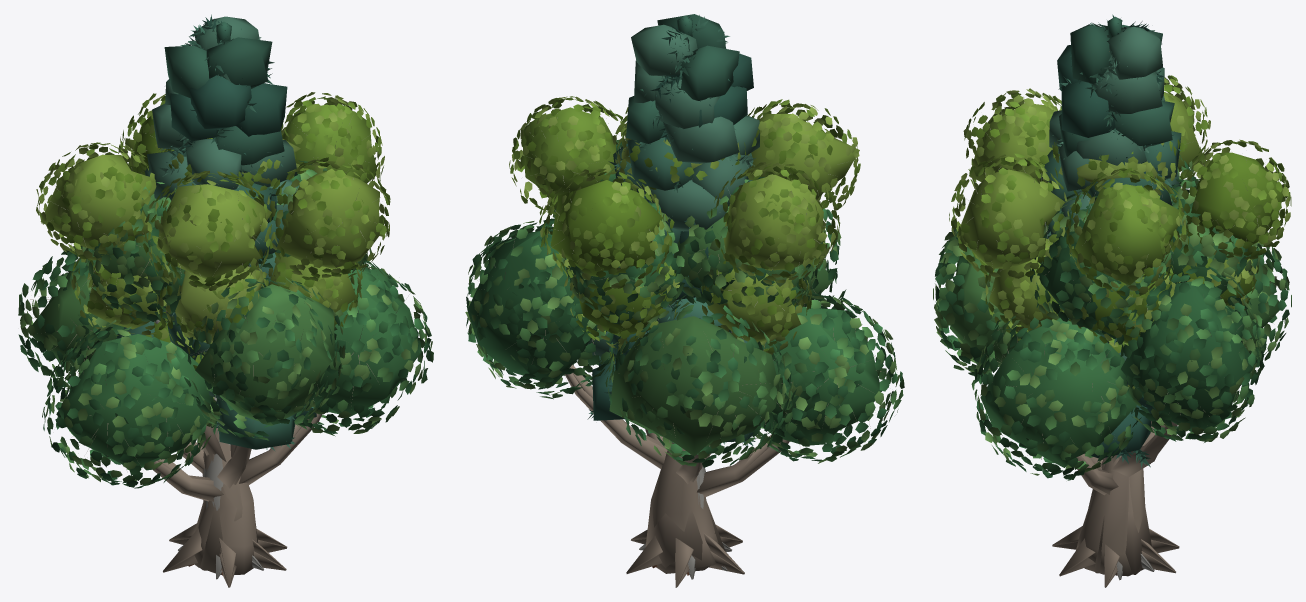
The model's file is trees.glb.
The picture shows the model from 3 angles, left to right: view 1: azimuth 30°, elevation 25°; view 2: azimuth 150°, elevation 25°; view 3: azimuth 270°, elevation 25°; orthographic projection.
Visible parts, largest first — view 1: kusu_LOD0_leaves, keyaki_LOD0_leaves, kusu_LOD1_leaves, keyaki_LOD1_leaves, sugi_LOD1_leaves, kusu_LOD0_trunk, kusu_LOD1_trunk, sugi_LOD0_leaves, keyaki_LOD0_trunk; view 2: kusu_LOD0_leaves, keyaki_LOD0_leaves, kusu_LOD1_leaves, sugi_LOD1_leaves, keyaki_LOD1_leaves, kusu_LOD0_trunk, kusu_LOD1_trunk, sugi_LOD0_leaves; view 3: kusu_LOD0_leaves, keyaki_LOD0_leaves, kusu_LOD1_leaves, keyaki_LOD1_leaves, sugi_LOD1_leaves, kusu_LOD0_trunk, kusu_LOD1_trunk, sugi_LOD0_leaves.
Part boxes in pixels (box(x1,y1,x2,y2)): kusu_LOD0_leaves: box(18, 160, 433, 488); keyaki_LOD0_leaves: box(36, 92, 390, 398); kusu_LOD1_leaves: box(32, 179, 421, 467); keyaki_LOD1_leaves: box(40, 104, 379, 357); sugi_LOD1_leaves: box(116, 16, 316, 449); kusu_LOD0_trunk: box(30, 204, 415, 587); kusu_LOD1_trunk: box(157, 422, 302, 587); sugi_LOD0_leaves: box(152, 14, 313, 451); keyaki_LOD0_trunk: box(47, 119, 377, 579); kusu_LOD0_leaves: box(465, 138, 904, 467); keyaki_LOD0_leaves: box(509, 96, 860, 363); kusu_LOD1_leaves: box(467, 206, 880, 456); sugi_LOD1_leaves: box(587, 14, 760, 442); keyaki_LOD1_leaves: box(523, 107, 859, 342); kusu_LOD0_trunk: box(474, 236, 887, 587); kusu_LOD1_trunk: box(569, 364, 771, 587); sugi_LOD0_leaves: box(584, 15, 756, 446); kusu_LOD0_leaves: box(933, 154, 1291, 480); keyaki_LOD0_leaves: box(949, 75, 1291, 388); kusu_LOD1_leaves: box(940, 196, 1279, 467); keyaki_LOD1_leaves: box(956, 92, 1283, 353); sugi_LOD1_leaves: box(1040, 16, 1181, 458); kusu_LOD0_trunk: box(955, 186, 1278, 587); kusu_LOD1_trunk: box(1052, 421, 1179, 587); sugi_LOD0_leaves: box(1045, 14, 1180, 468).
Bounding box in the file's own units: 7.54 × 10.6 × 6.35.
